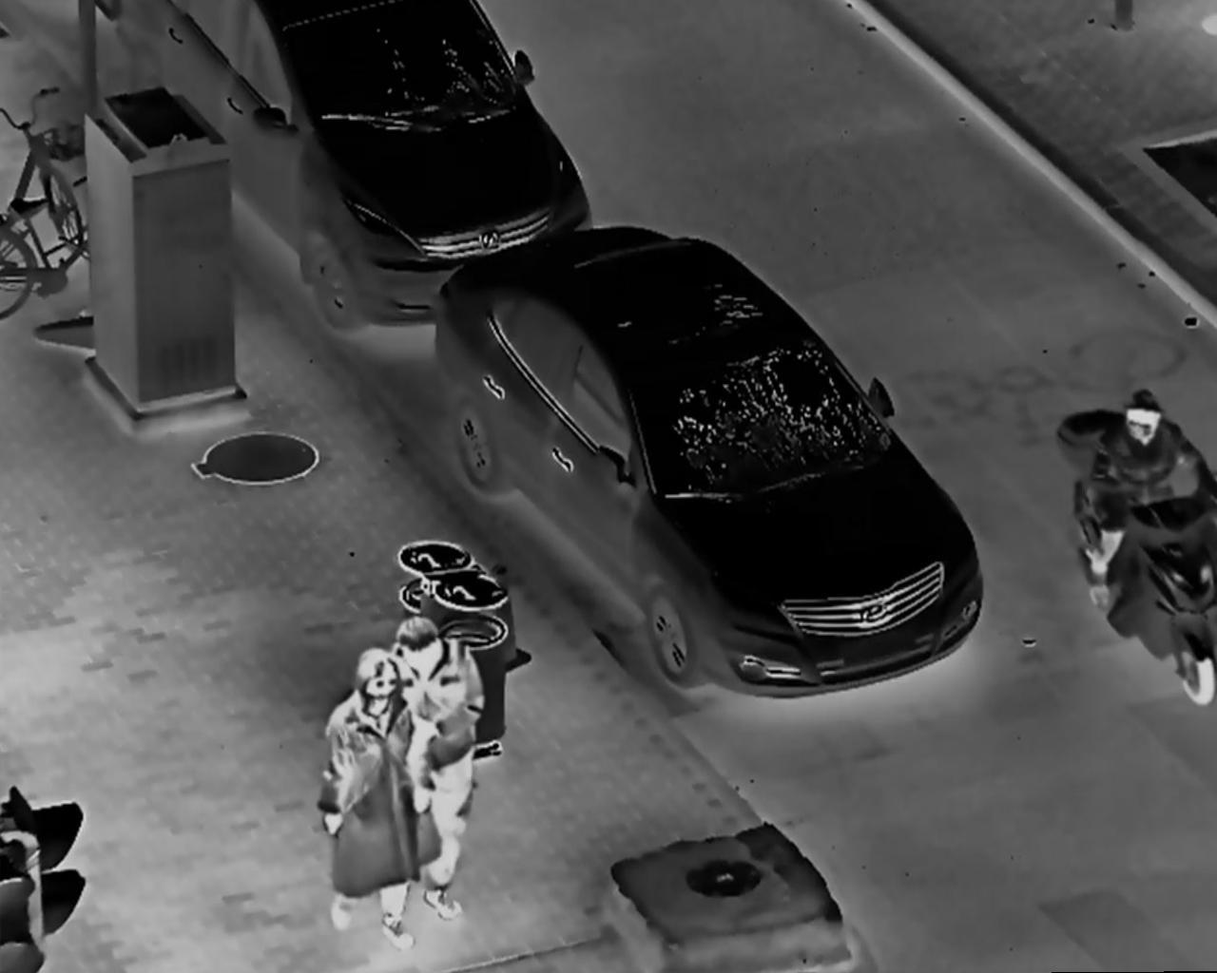person: (378, 613, 484, 925), (318, 643, 419, 947), (1088, 387, 1217, 616)
